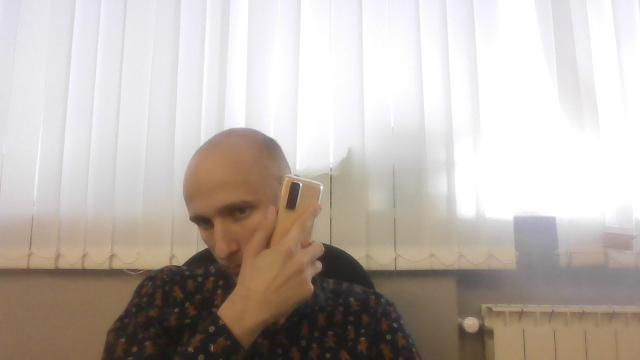Phone: (269, 172, 325, 250)
